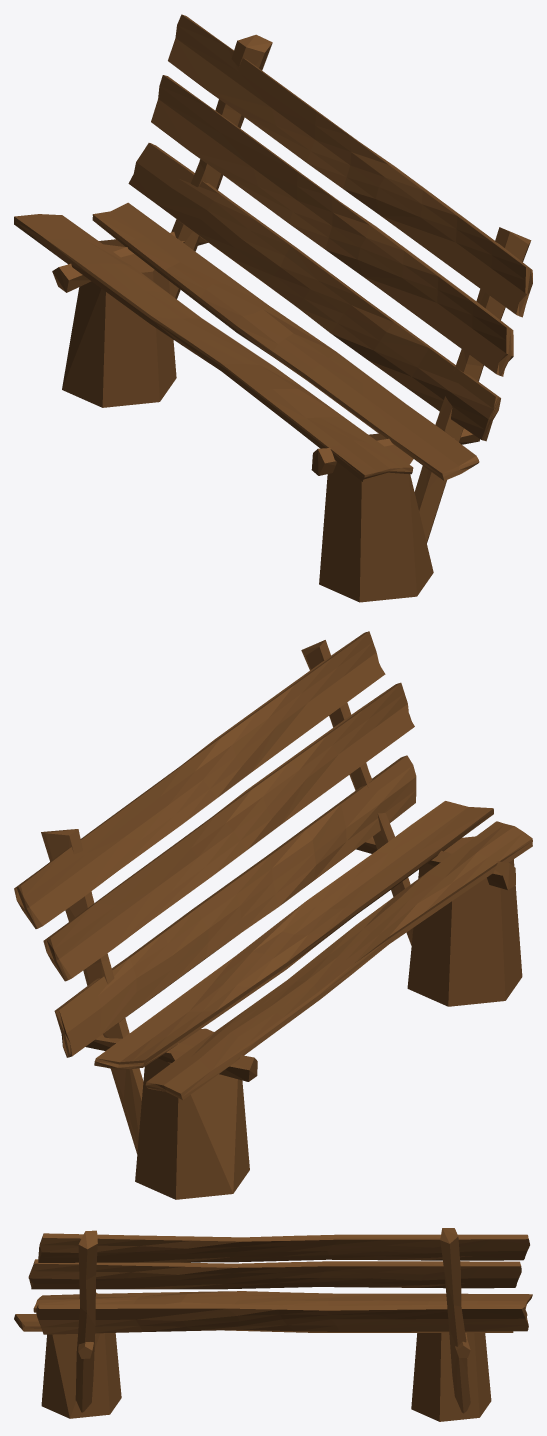
3 renders of one model, top to bottom at view 1: azimuth 30°, elevation 25°; view 2: azimuth 150°, elevation 25°; view 3: azimuth 270°, elevation 25°, orthographic. The views are drawn at different scales.
Visible parts, largest first — view 1: Latte_4, Latte_1_4, Latte_2_3, Latte_1_2, Latte_2, Stump_2, Stump_4, Cylinder_2_5, Cylinder_4, Cylinder_2, Cylinder_2_3; view 2: Latte_1_4, Latte_4, Latte_2_3, Latte_1_2, Latte_2, Stump_4, Stump_2, Cylinder_4, Cylinder_2_5, Cylinder_2, Cylinder_2_3; view 3: Latte_2_3, Latte_1_4, Latte_4, Latte_2, Stump_4, Stump_2, Cylinder_2_5, Cylinder_4, Latte_1_2.
Part boxes in pixels (bbox=[...]): Latte_4: bbox=[168, 14, 532, 317]; Latte_1_4: bbox=[151, 75, 513, 376]; Latte_2_3: bbox=[128, 143, 500, 441]; Latte_1_2: bbox=[92, 202, 479, 480]; Latte_2: bbox=[14, 214, 413, 481]; Stump_2: bbox=[319, 433, 433, 602]; Stump_4: bbox=[62, 239, 176, 407]; Cylinder_2_5: bbox=[414, 227, 531, 543]; Cylinder_4: bbox=[169, 34, 272, 299]; Cylinder_2: bbox=[52, 232, 208, 292]; Cylinder_2_3: bbox=[311, 428, 479, 475]; Latte_1_4: bbox=[43, 682, 414, 981]; Latte_4: bbox=[14, 631, 385, 928]; Latte_2_3: bbox=[54, 755, 416, 1057]; Latte_1_2: bbox=[94, 801, 493, 1069]; Latte_2: bbox=[145, 821, 532, 1099]; Stump_4: bbox=[135, 1028, 249, 1199]; Stump_2: bbox=[407, 836, 522, 1006]; Cylinder_4: bbox=[41, 829, 143, 1153]; Cylinder_2_5: bbox=[301, 640, 413, 945]; Cylinder_2: bbox=[85, 1033, 257, 1081]; Cylinder_2_3: bbox=[356, 836, 515, 889]; Latte_2_3: bbox=[36, 1304, 528, 1334]; Latte_1_4: bbox=[28, 1259, 521, 1289]; Latte_4: bbox=[38, 1233, 529, 1262]; Latte_2: bbox=[33, 1291, 532, 1312]; Stump_4: bbox=[411, 1333, 491, 1421]; Stump_2: bbox=[41, 1333, 121, 1418]; Cylinder_2_5: bbox=[75, 1230, 97, 1412]; Cylinder_4: bbox=[440, 1228, 470, 1413]; Latte_1_2: bbox=[14, 1314, 513, 1332].
Size of the model in its own units: 62.39 by 86.79 by 187.
